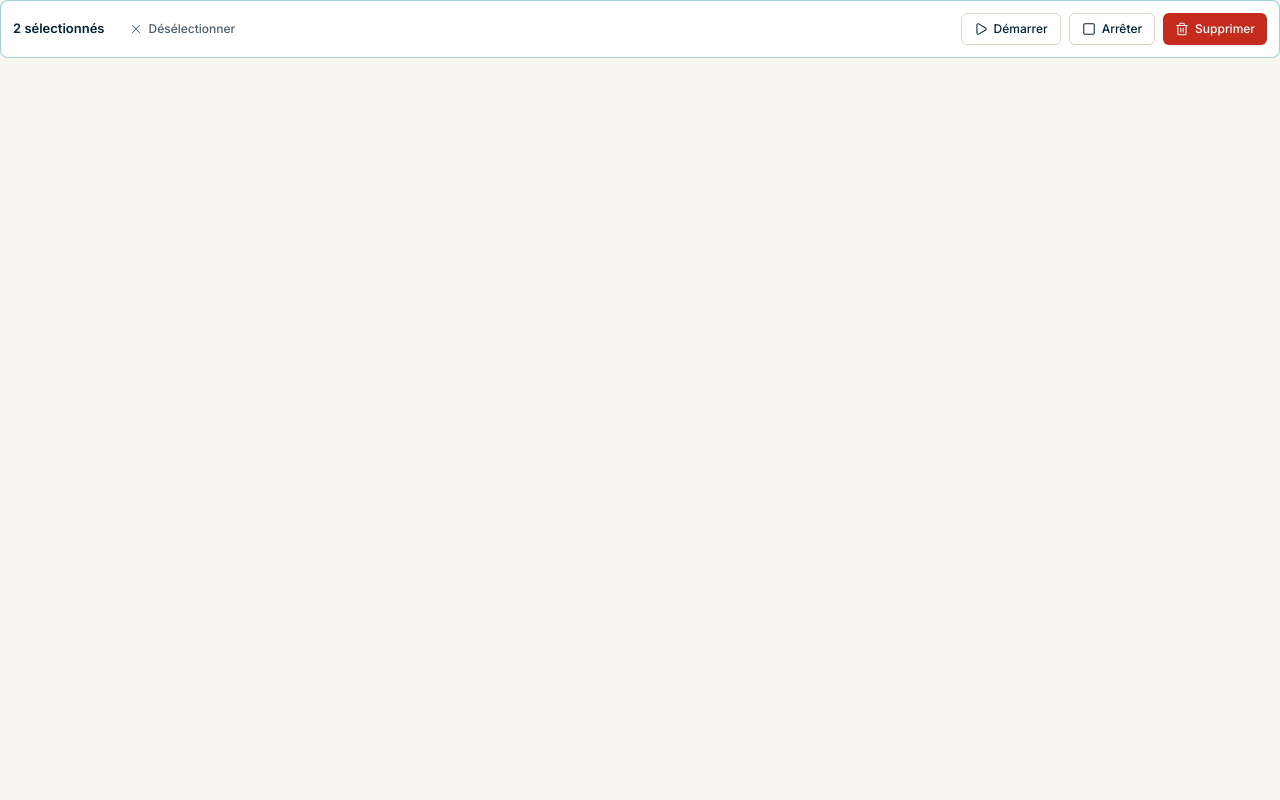
Scenario: BulkActionsBar › annule la suppression groupée sans exécuter l’action
Click the button "Supprimer" at (1215, 29), box x1=1163 y1=13 x2=1267 y2=45
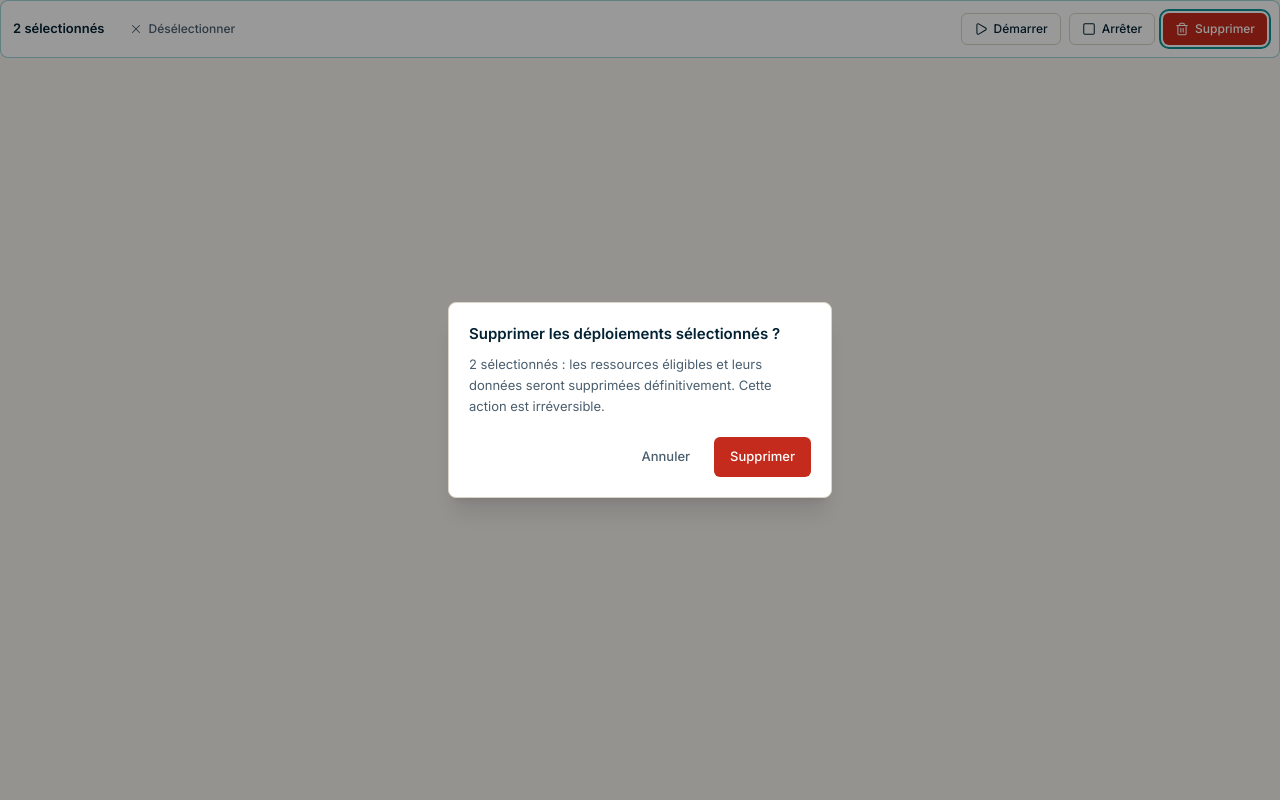
Click the button "Annuler" at (666, 457), box x1=626 y1=437 x2=706 y2=477
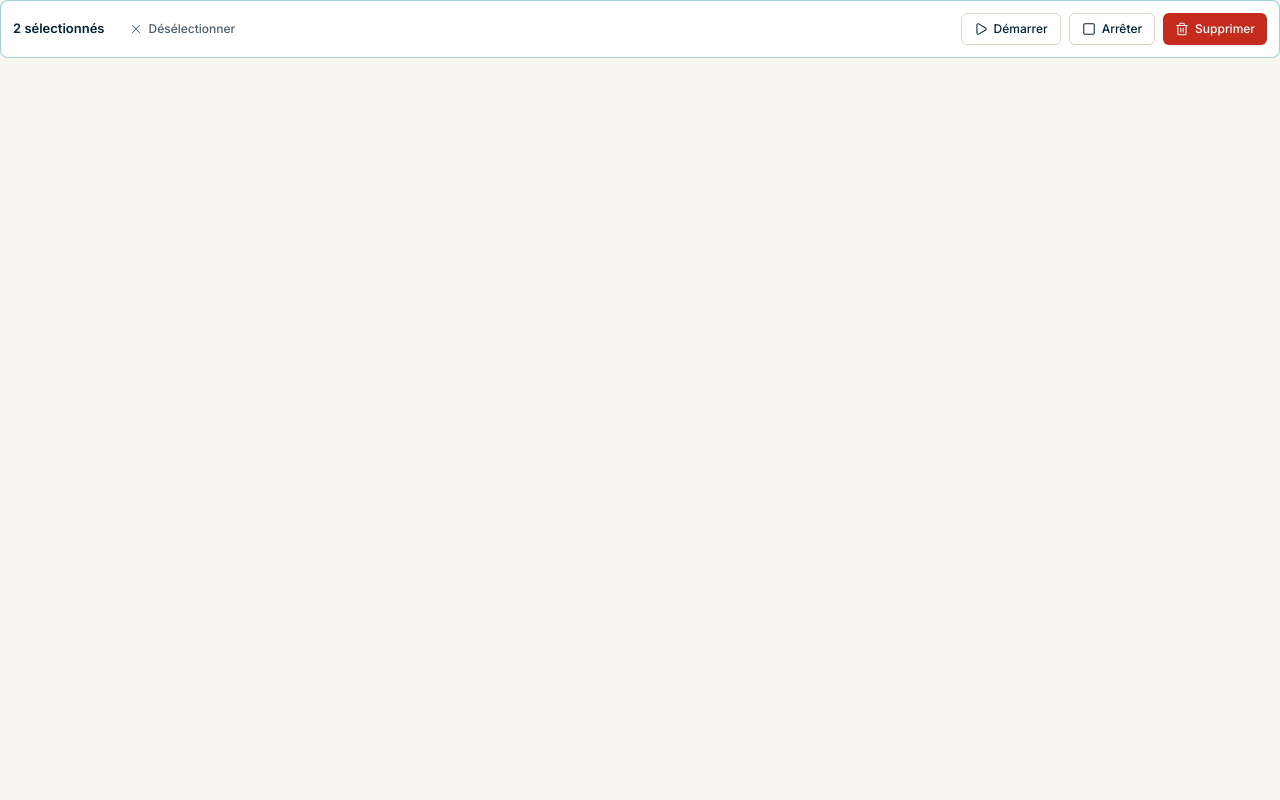
Check: the dialog is gone
